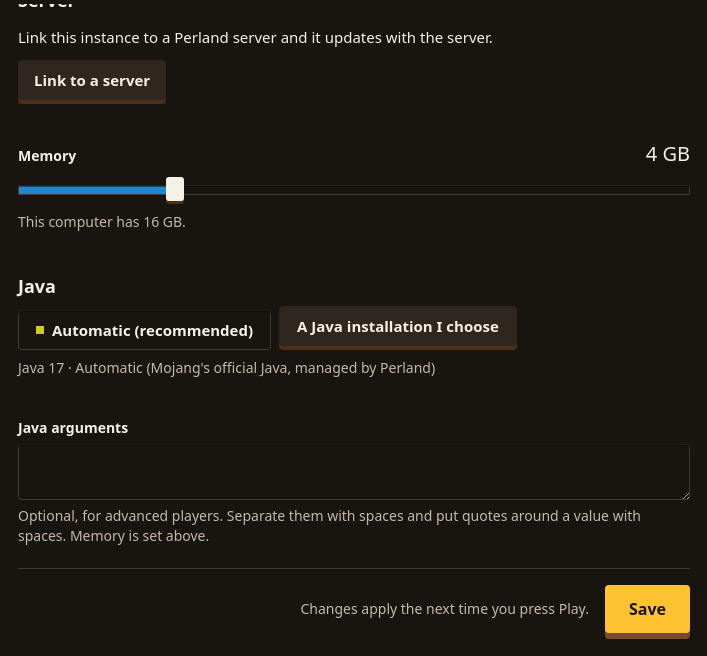
Test case: says so when no Java is found on this computer
(page scrolled)
Expected: the slider labelled "Memory" is shown, [18,176,690,204]
Click the radio button labelled "A Java installation I choose". click: (398, 326)
box: [279,306,517,346]
(page scrolled)
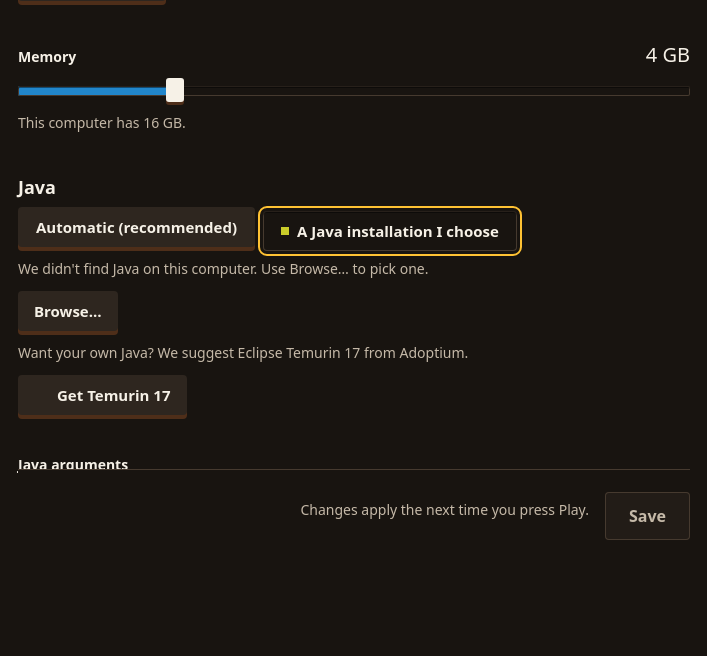
Expected: the text "We didn't find Java on this computer. Use Browse… to pick one." is shown, [18,259,428,278]
Expected: the button "Save" is disabled, [605,492,690,540]
